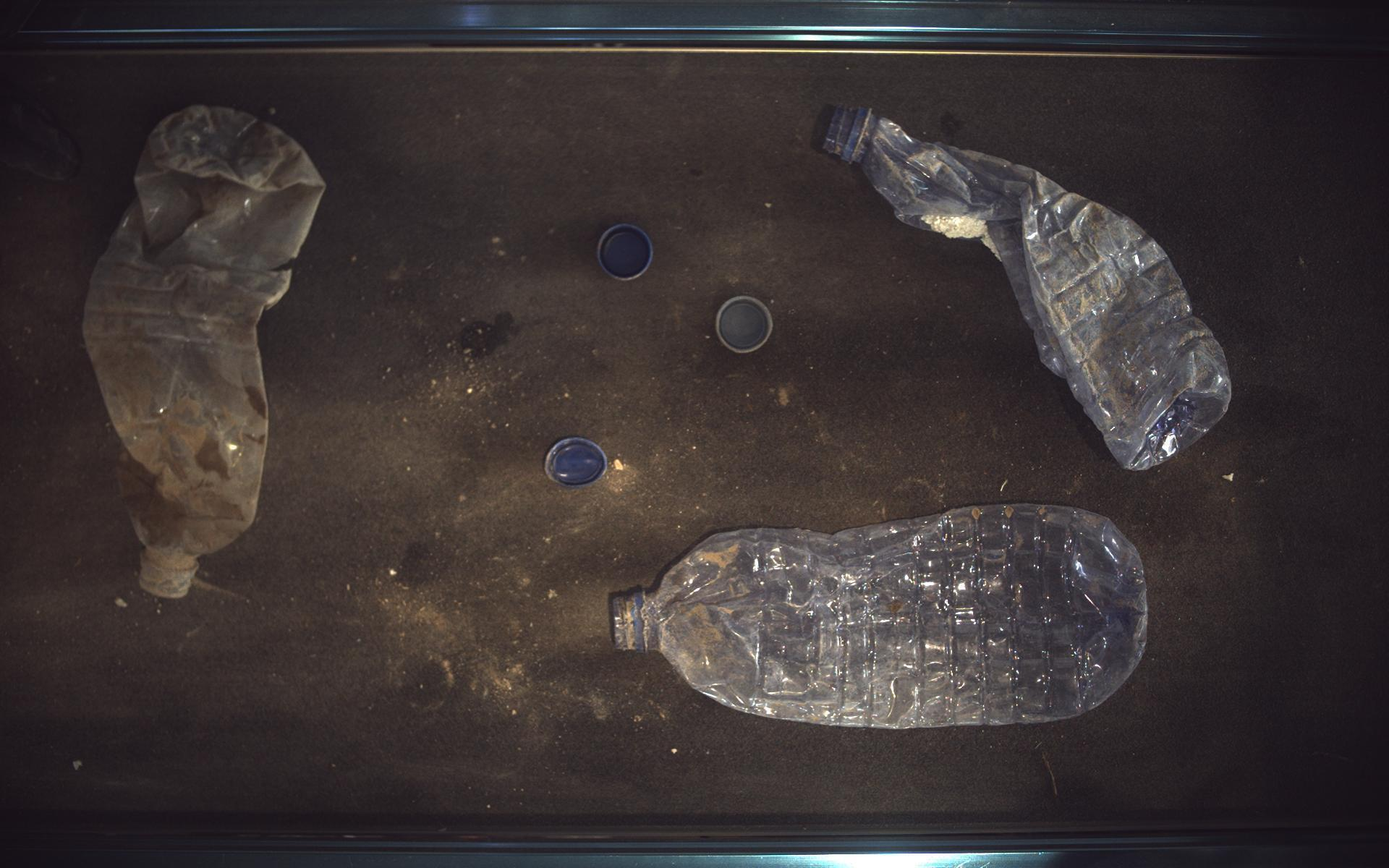general_w: (824, 105, 1234, 469), (611, 504, 1150, 730), (82, 104, 324, 599), (715, 295, 775, 354), (545, 437, 610, 490), (598, 222, 654, 280)
